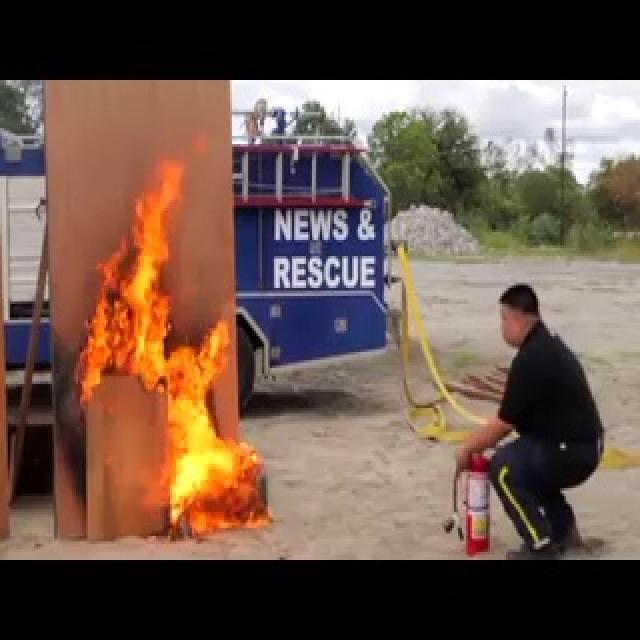fire: (66, 101, 268, 542)
